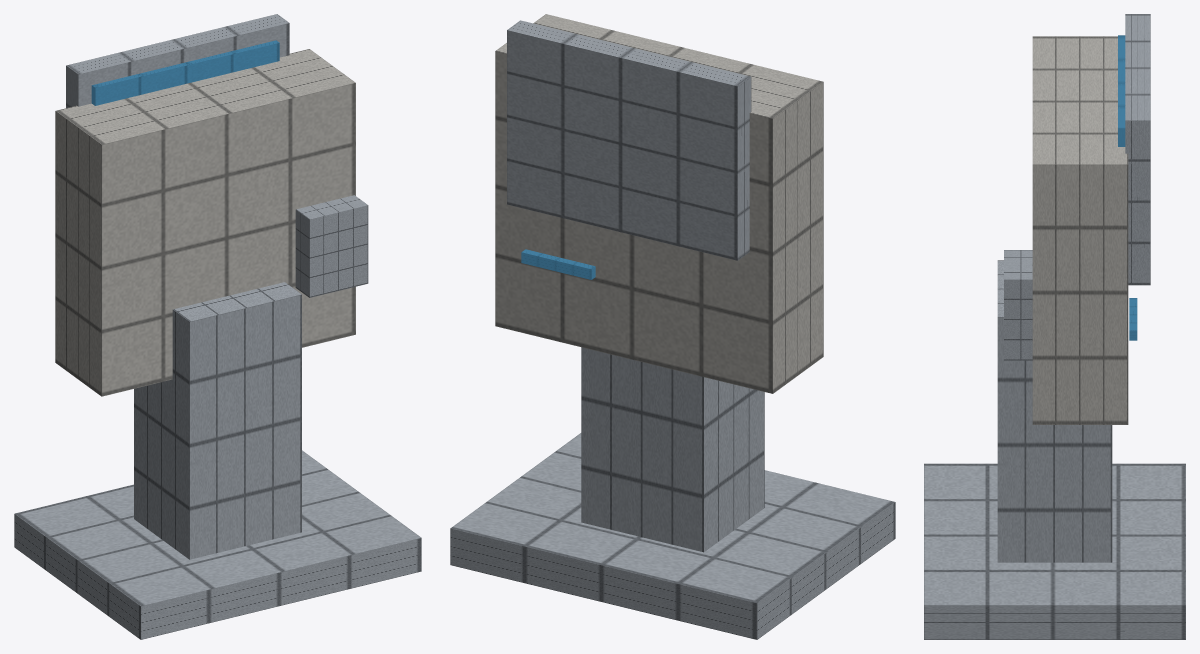
Rendered from order_kiosk.glb.
The picture shows the model from 3 angles, left to right: view 1: azimuth 30°, elevation 25°; view 2: azimuth 150°, elevation 25°; view 3: azimuth 270°, elevation 25°; orthographic projection. The views are drawn at different scales.
Parts seen in each view (by area): view 1: Terminal body, Pedestal column, Weighted base, Payment terminal, Chrome screen bezel, Touchscreen glass; view 2: Terminal body, Chrome screen bezel, Weighted base, Pedestal column, Receipt slot; view 3: Terminal body, Weighted base, Pedestal column, Chrome screen bezel, Payment terminal, Touchscreen glass, Receipt slot.
Boxes of the visible parts, box(x1,y1,x2,y2) form: Terminal body: box(55, 49, 355, 396); Pedestal column: box(134, 282, 301, 559); Weighted base: box(14, 450, 421, 639); Payment terminal: box(295, 195, 368, 297); Chrome screen bezel: box(66, 14, 289, 108); Touchscreen glass: box(91, 40, 279, 105); Terminal body: box(495, 14, 823, 393); Chrome screen bezel: box(507, 20, 751, 260); Weighted base: box(450, 433, 895, 639); Pedestal column: box(581, 347, 764, 552); Receipt slot: box(521, 249, 595, 279); Terminal body: box(1032, 36, 1128, 424); Weighted base: box(924, 463, 1185, 639); Pedestal column: box(997, 260, 1112, 562); Chrome screen bezel: box(1125, 14, 1150, 285); Payment terminal: box(1004, 250, 1032, 360); Touchscreen glass: box(1118, 35, 1125, 146); Receipt slot: box(1129, 298, 1137, 340).
Bounding box in the file's own units: 1.05 × 1.73 × 0.82.
3 materials, 3 textured.
